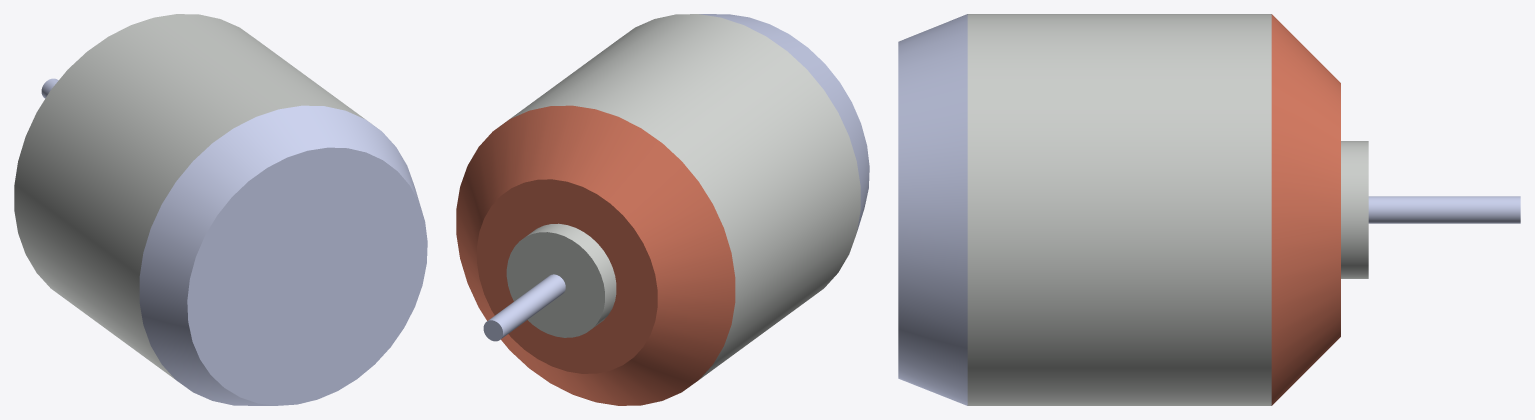
Rendered from brushless motor - main.fbx.
3 views of the same model, side by side, from view 1: azimuth 30°, elevation 25°; view 2: azimuth 150°, elevation 25°; view 3: azimuth 270°, elevation 25° (orthographic). The views are drawn at different scales.
Parts seen in each view (by area): view 1: brushless motor - main; view 2: brushless motor - main; view 3: brushless motor - main.
Part boxes in pixels (box(x1,y1,x2,y2)): brushless motor - main: box(14, 14, 427, 405); brushless motor - main: box(456, 14, 869, 405); brushless motor - main: box(898, 14, 1520, 405).
Size of the model in its own units: 28.3 by 45 by 28.4.
